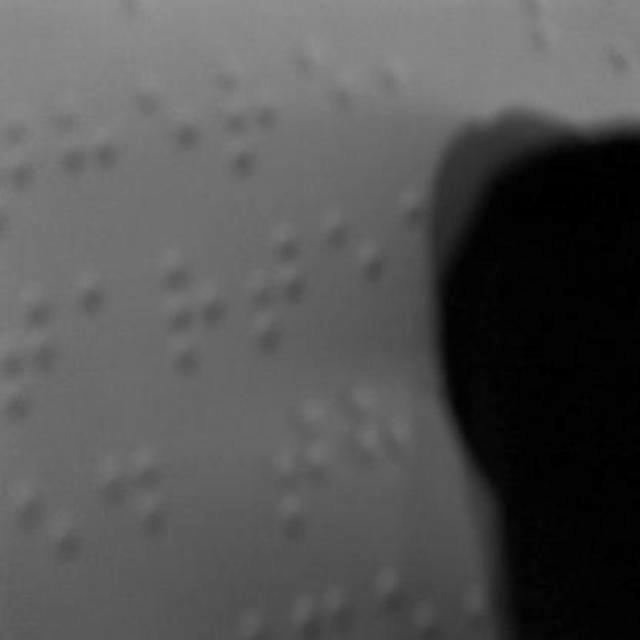braiile: (56, 91, 128, 227), (14, 467, 84, 605), (272, 392, 338, 536), (102, 439, 168, 579), (161, 241, 227, 381), (348, 382, 416, 516), (136, 70, 204, 200), (219, 56, 289, 182), (250, 222, 312, 362), (74, 262, 138, 396), (293, 32, 357, 158), (326, 205, 389, 332), (2, 297, 62, 421)
